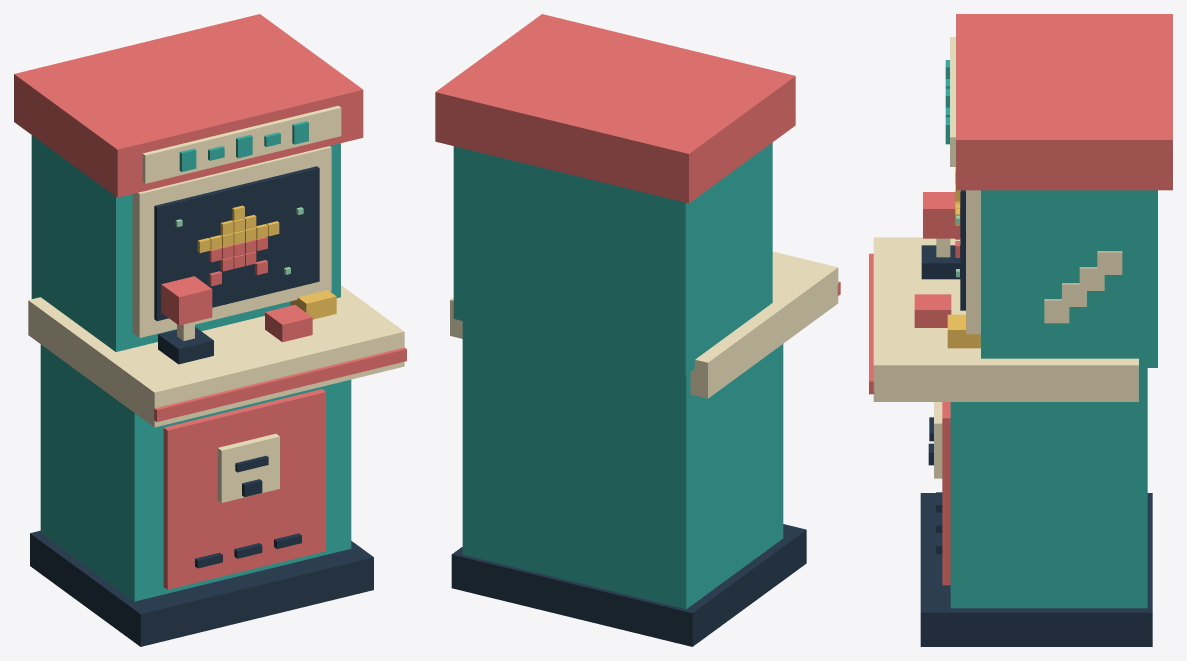
3 views of the same model, side by side, from view 1: azimuth 30°, elevation 25°; view 2: azimuth 150°, elevation 25°; view 3: azimuth 270°, elevation 25° (orthographic). The views are drawn at different scales.
Parts seen in each view (by area): view 1: Header block, Base teal cabinet, Front coral inset, Control shelf cream, Screen housing, Plinth dark voxel shadow, Recessed midnight display, Screen ivory bezel, Header cream face, Control shelf coral stripe, Front cream coin block, Joystick coral head (+3 smaller); view 2: Base teal cabinet, Screen housing, Header block, Plinth dark voxel shadow, Control shelf cream; view 3: Base teal cabinet, Header block, Screen housing, Control shelf cream, Plinth dark voxel shadow, Screen ivory bezel, Front coral inset, Joystick coral head, Pixel action button, Joystick socket, Pixel action button.001, Header cream face (+7 smaller).
Part boxes in pixels (x1,y1,x2,y2): Header block: [14, 14, 363, 197]; Base teal cabinet: [40, 344, 351, 601]; Front coral inset: [163, 389, 325, 589]; Control shelf cream: [28, 285, 404, 427]; Screen housing: [31, 135, 340, 351]; Plinth dark voxel shadow: [30, 530, 373, 646]; Recessed midnight display: [154, 166, 319, 321]; Screen ivory bezel: [132, 146, 331, 337]; Header cream face: [142, 105, 341, 183]; Control shelf coral stripe: [154, 347, 406, 421]; Front cream coin block: [217, 433, 279, 502]; Joystick coral head: [161, 276, 212, 325]; Base teal cabinet: [462, 321, 783, 609]; Screen housing: [453, 142, 772, 375]; Header block: [435, 14, 795, 203]; Plinth dark voxel shadow: [451, 524, 806, 646]; Control shelf cream: [450, 251, 838, 398]; Base teal cabinet: [950, 368, 1147, 608]; Header block: [956, 14, 1172, 190]; Screen housing: [981, 190, 1157, 367]; Control shelf cream: [873, 237, 1138, 401]; Plinth dark voxel shadow: [920, 493, 1152, 646]; Screen ivory bezel: [966, 190, 980, 334]; Front coral inset: [942, 402, 950, 585]; Joystick coral head: [923, 192, 960, 238]; Pixel action button: [914, 294, 951, 327]; Joystick socket: [921, 245, 960, 279]; Pixel action button.001: [947, 314, 980, 348]; Header cream face: [950, 37, 955, 166].
Size of the model in its own units: 1.2 by 2.23 by 1.2.
